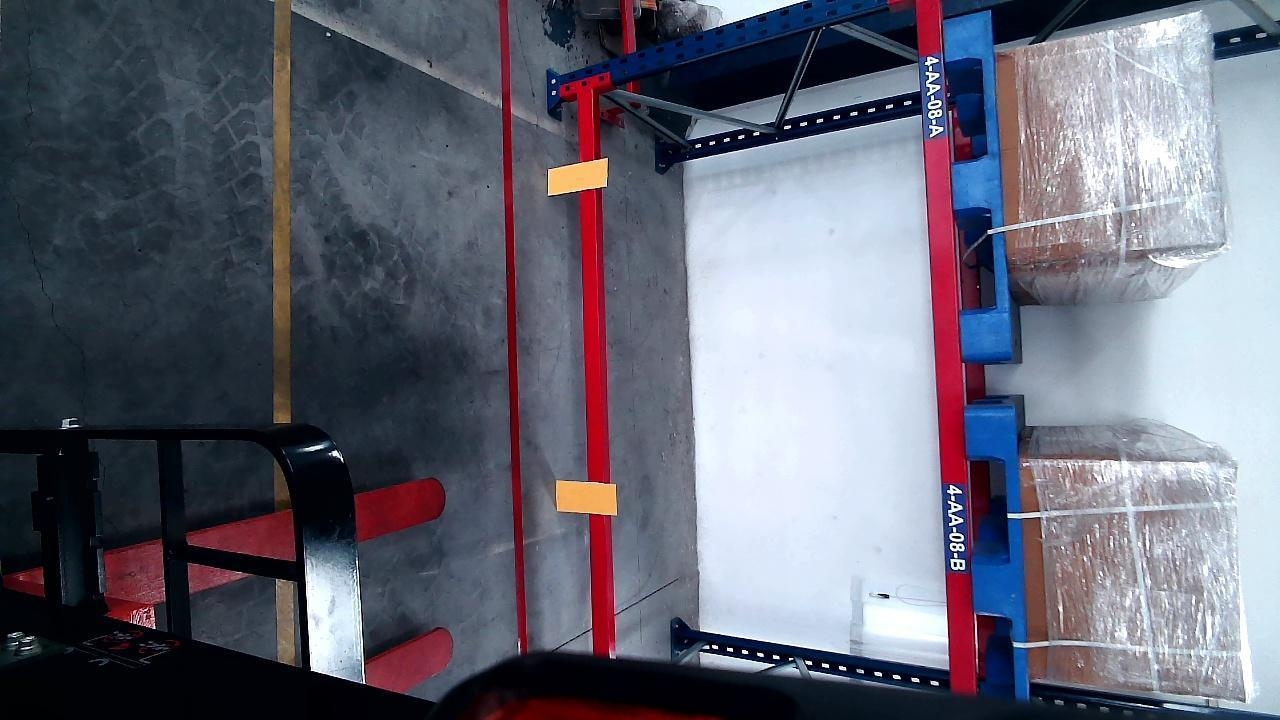h_rack: (919, 9, 976, 684), (575, 85, 613, 663)
orange_strip: (546, 158, 608, 195), (554, 479, 617, 514)
red_line: (499, 0, 532, 656)
small_pallet: (944, 6, 1012, 361), (969, 412, 1027, 686)
yellow_line: (270, 2, 295, 411)
